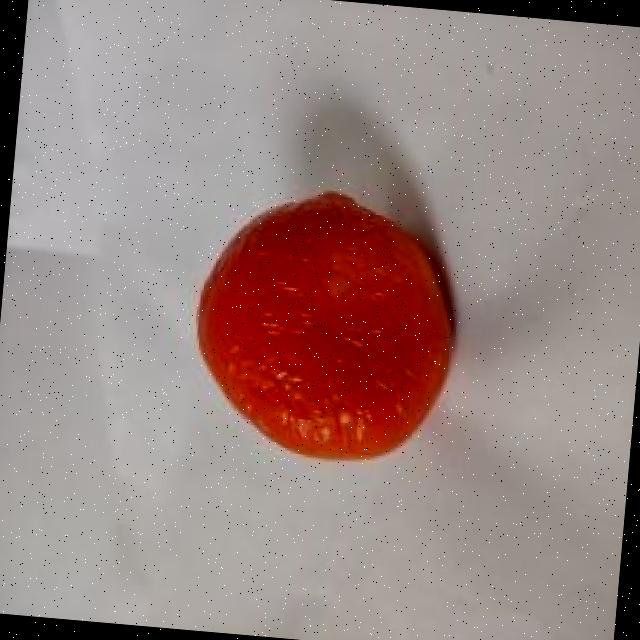overripe: (179, 180, 468, 474)
